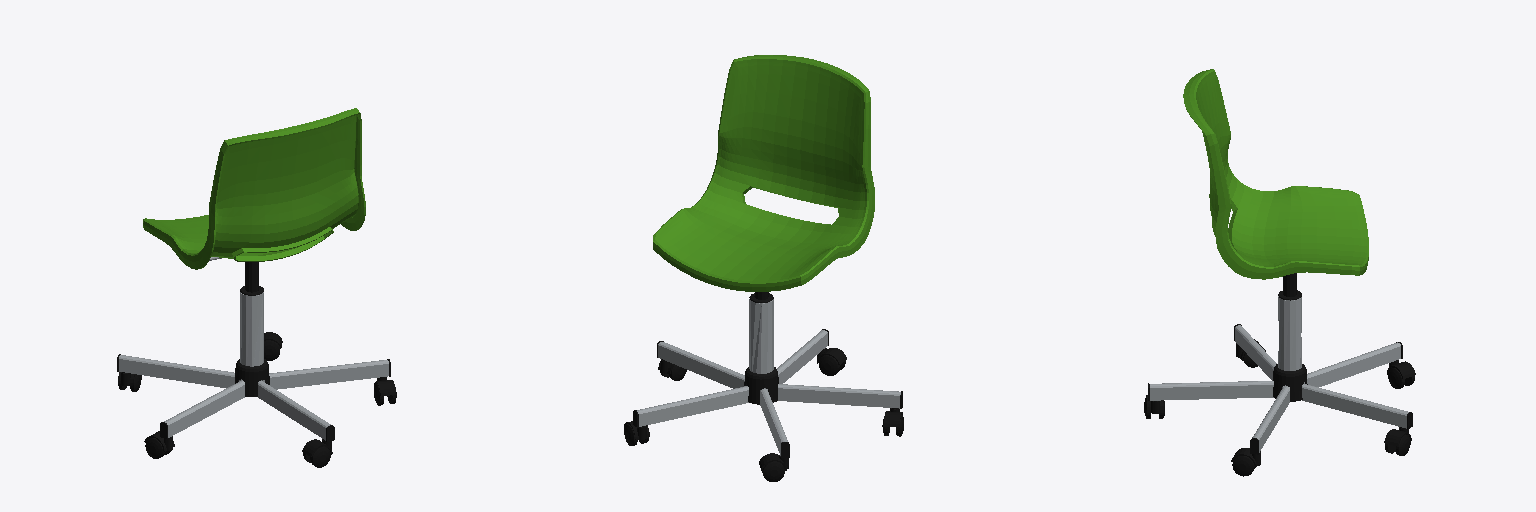
3 renders of one model, left to right at view 1: azimuth 30°, elevation 25°; view 2: azimuth 150°, elevation 25°; view 3: azimuth 270°, elevation 25°, orthographic.
Visible parts, largest first — view 1: Mesh2 Group2 SNILLE_IKEA1 Model, Mesh8 Group6 SNILLE_IKEA1 Model, Mesh7 Group5 SNILLE_IKEA1 Model, Mesh1 Group1 SNILLE_IKEA1 Model, Mesh3 Group3 SNILLE_IKEA1 Model; view 2: Mesh2 Group2 SNILLE_IKEA1 Model, Mesh8 Group6 SNILLE_IKEA1 Model, Mesh7 Group5 SNILLE_IKEA1 Model, Mesh1 Group1 SNILLE_IKEA1 Model; view 3: Mesh2 Group2 SNILLE_IKEA1 Model, Mesh8 Group6 SNILLE_IKEA1 Model, Mesh7 Group5 SNILLE_IKEA1 Model, Mesh1 Group1 SNILLE_IKEA1 Model.
Part boxes in pixels (bbox=[...]): Mesh2 Group2 SNILLE_IKEA1 Model: bbox=[143, 108, 365, 269]; Mesh8 Group6 SNILLE_IKEA1 Model: bbox=[117, 354, 390, 441]; Mesh7 Group5 SNILLE_IKEA1 Model: bbox=[240, 292, 263, 366]; Mesh1 Group1 SNILLE_IKEA1 Model: bbox=[235, 359, 269, 396]; Mesh3 Group3 SNILLE_IKEA1 Model: bbox=[240, 262, 263, 295]; Mesh2 Group2 SNILLE_IKEA1 Model: bbox=[653, 55, 874, 291]; Mesh8 Group6 SNILLE_IKEA1 Model: bbox=[633, 329, 902, 457]; Mesh7 Group5 SNILLE_IKEA1 Model: bbox=[749, 299, 773, 373]; Mesh1 Group1 SNILLE_IKEA1 Model: bbox=[744, 367, 778, 404]; Mesh2 Group2 SNILLE_IKEA1 Model: bbox=[1183, 69, 1368, 279]; Mesh8 Group6 SNILLE_IKEA1 Model: bbox=[1148, 324, 1412, 454]; Mesh7 Group5 SNILLE_IKEA1 Model: bbox=[1278, 296, 1301, 370]; Mesh1 Group1 SNILLE_IKEA1 Model: bbox=[1273, 364, 1307, 401].
Size of the model in its own units: 0.597 by 0.7616 by 0.5776.